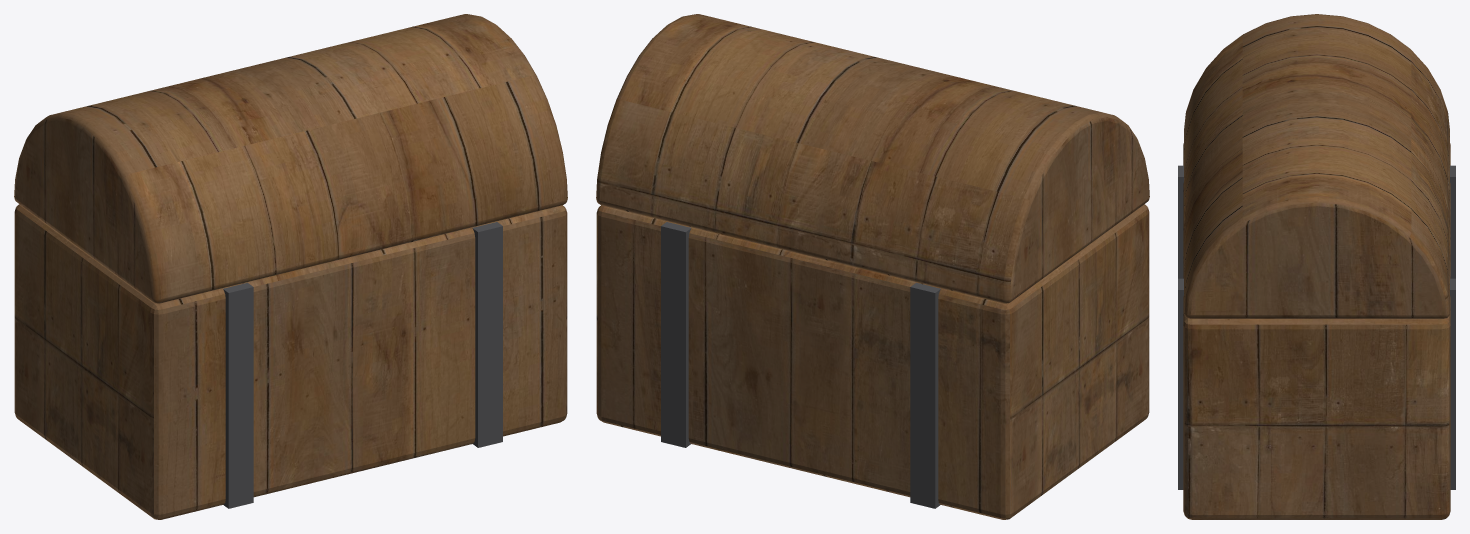
Rendered from chest.glb.
3 views of the same model, side by side, from view 1: azimuth 30°, elevation 25°; view 2: azimuth 150°, elevation 25°; view 3: azimuth 270°, elevation 25° (orthographic). The views are drawn at different scales.
Parts seen in each view (by area): view 1: Chest_Body, Chest_Lid, Chest_Band; view 2: Chest_Body, Chest_Lid, Chest_Band; view 3: Chest_Lid, Chest_Body, Chest_Band.
Boxes of the visible parts, bbox=[...] form: Chest_Body: bbox=[14, 204, 567, 519]; Chest_Lid: bbox=[14, 14, 567, 303]; Chest_Band: bbox=[223, 222, 502, 508]; Chest_Body: bbox=[596, 204, 1149, 519]; Chest_Lid: bbox=[596, 14, 1149, 303]; Chest_Band: bbox=[661, 222, 940, 508]; Chest_Lid: bbox=[1184, 14, 1449, 318]; Chest_Body: bbox=[1183, 143, 1450, 519]; Chest_Band: bbox=[1178, 165, 1455, 489].
Size of the model in its own units: 1 by 0.8 by 0.624.
2 materials, 1 textured.
